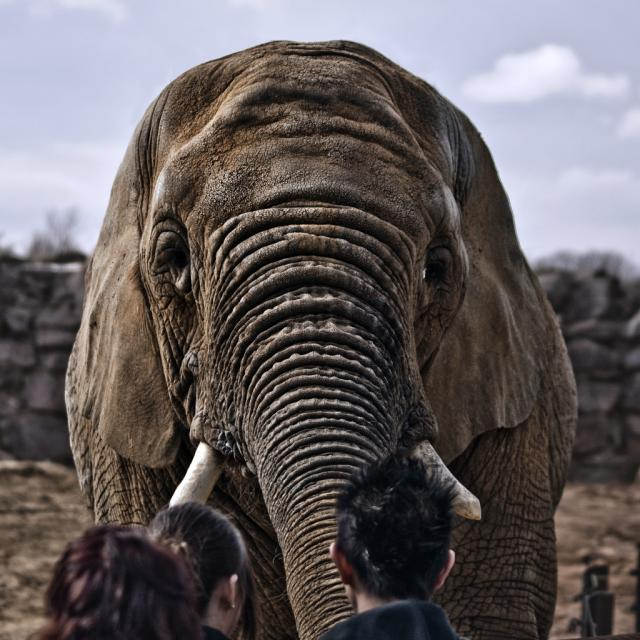elephant: (59, 45, 586, 640)
